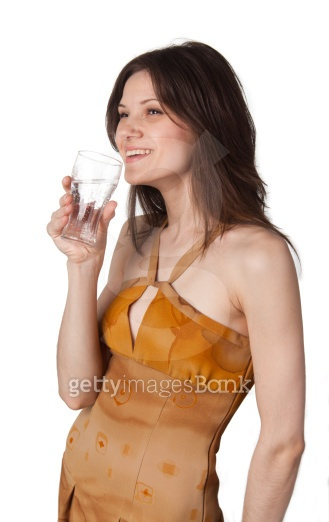glass of water: (65, 149, 129, 248)
